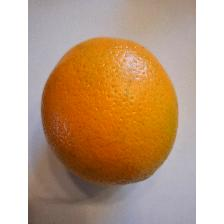Orange: (36, 31, 182, 187)
